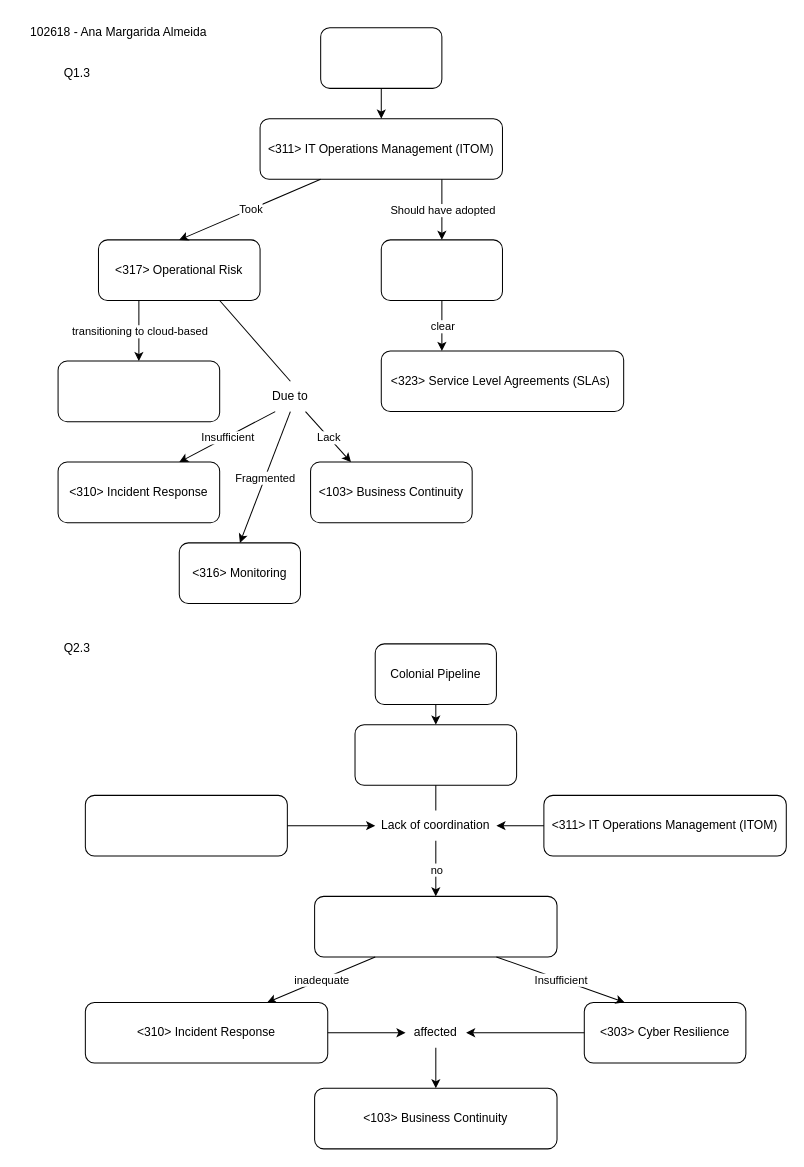
The diagram is 804 pixels wide and 1167 high, and some of its shapes have lost their labels. Each missing label, with the centre of its shape:
"<212> Governance of IT" goes at point (435, 754).
"<217> ITSM" goes at point (441, 269).
"<306> IT infrastructure" goes at point (138, 391).
"<317> Operational Risk management" goes at point (435, 926).
"<318> Operational Technology (OT)" goes at point (185, 825).
"ArcoMed" goes at point (381, 57).
